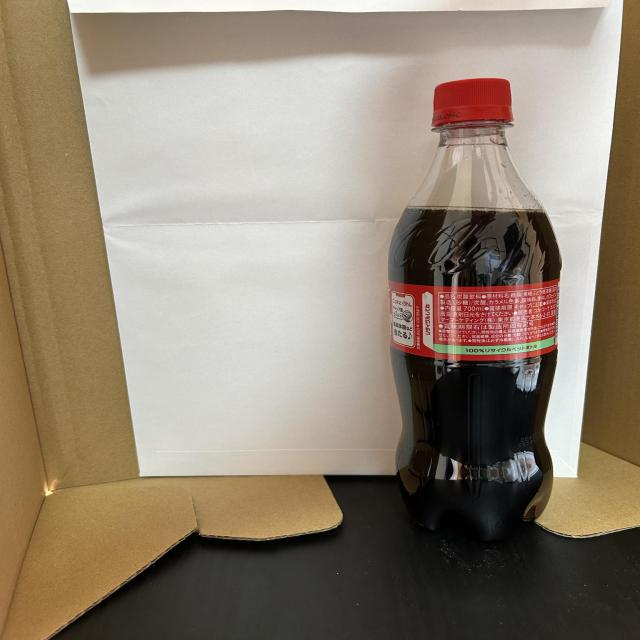high: (387, 78, 561, 540)
